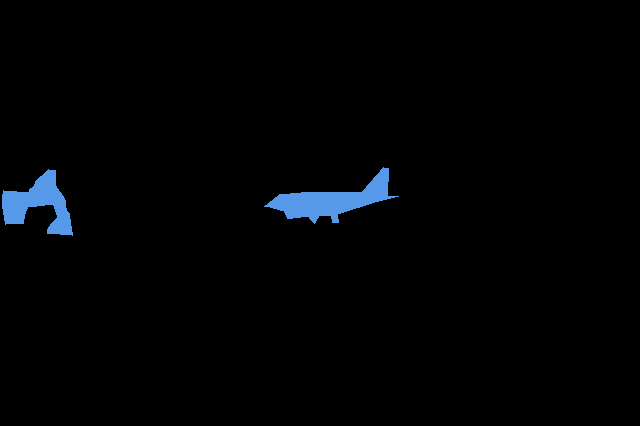Airplane: (264, 167, 399, 223), (2, 169, 72, 236)
